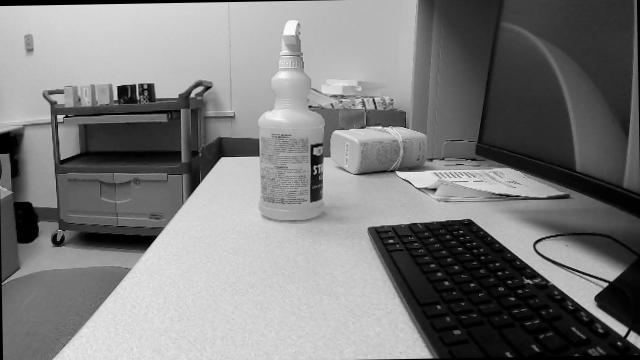StarSpray: (258, 21, 324, 222)
